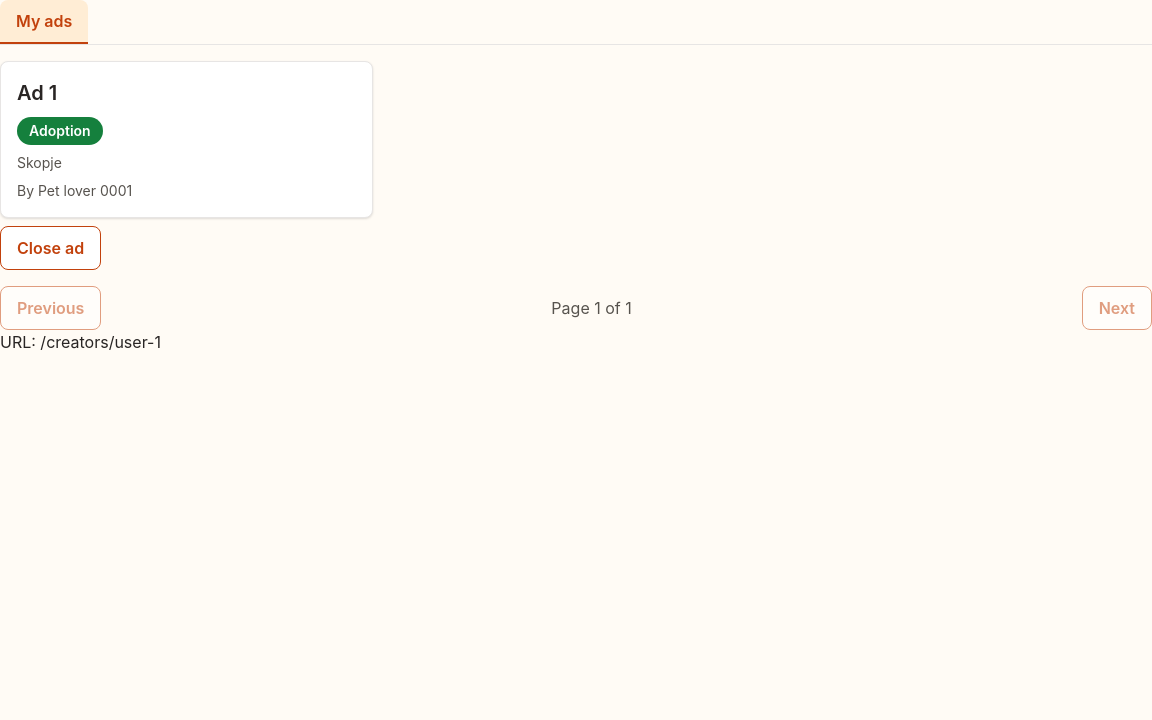
Test: MyAdsTab close ad › shows the empty state together with the message after closing the only ad
This screenshot has width=1152, height=720.
Step 1. Click the button named "Close ad: Ad 1" → (51, 248), box [0, 226, 101, 270]
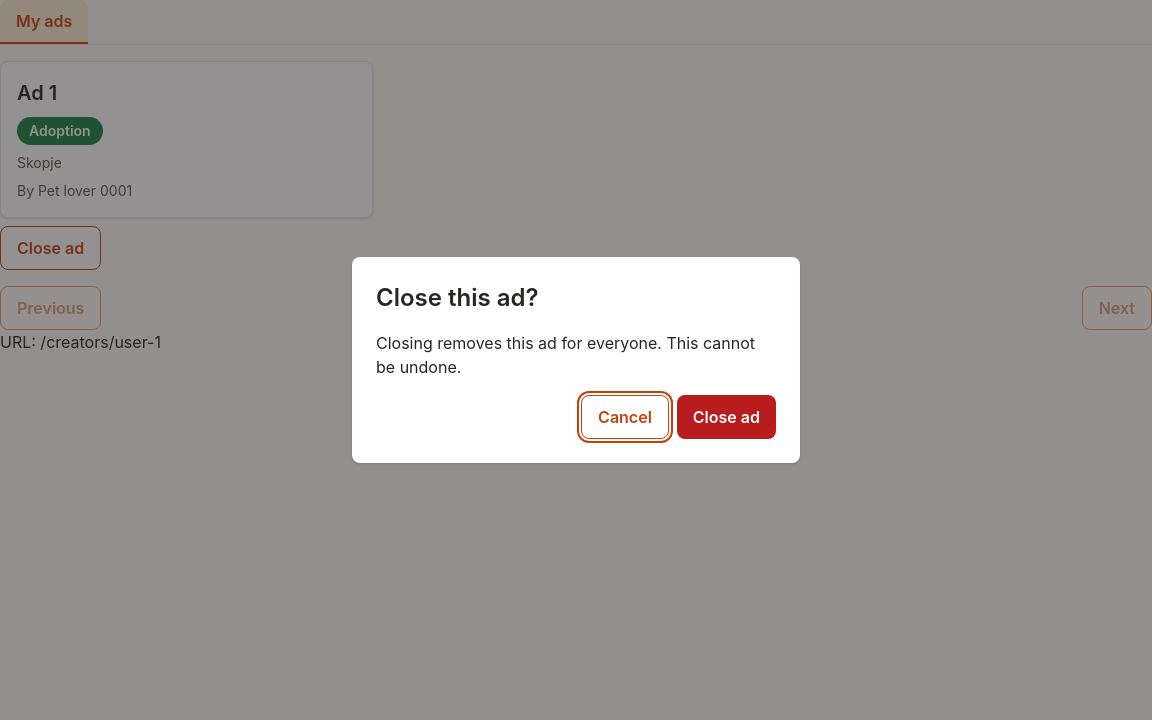
Step 2. Click the button "Close ad" → (726, 417), box [677, 395, 776, 439]
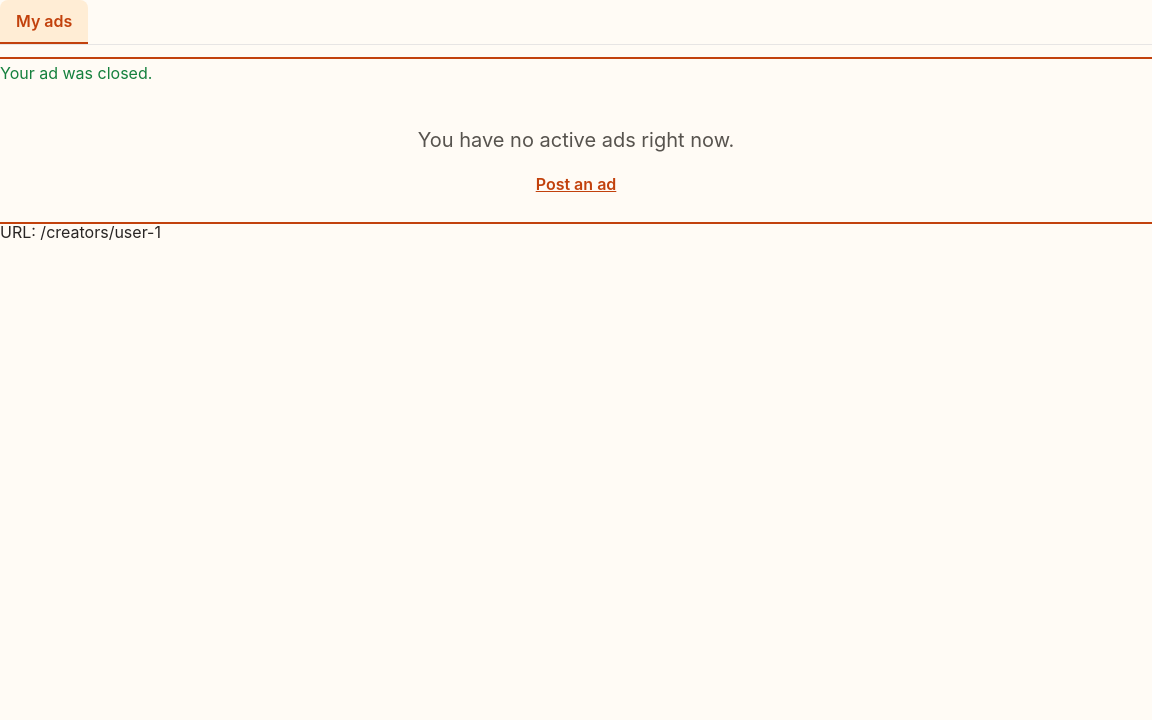
Expected: the text "You have no active ads right now." is shown, [418, 125, 734, 156]
Expected: the text "Your ad was closed." is shown, [0, 63, 152, 83]
